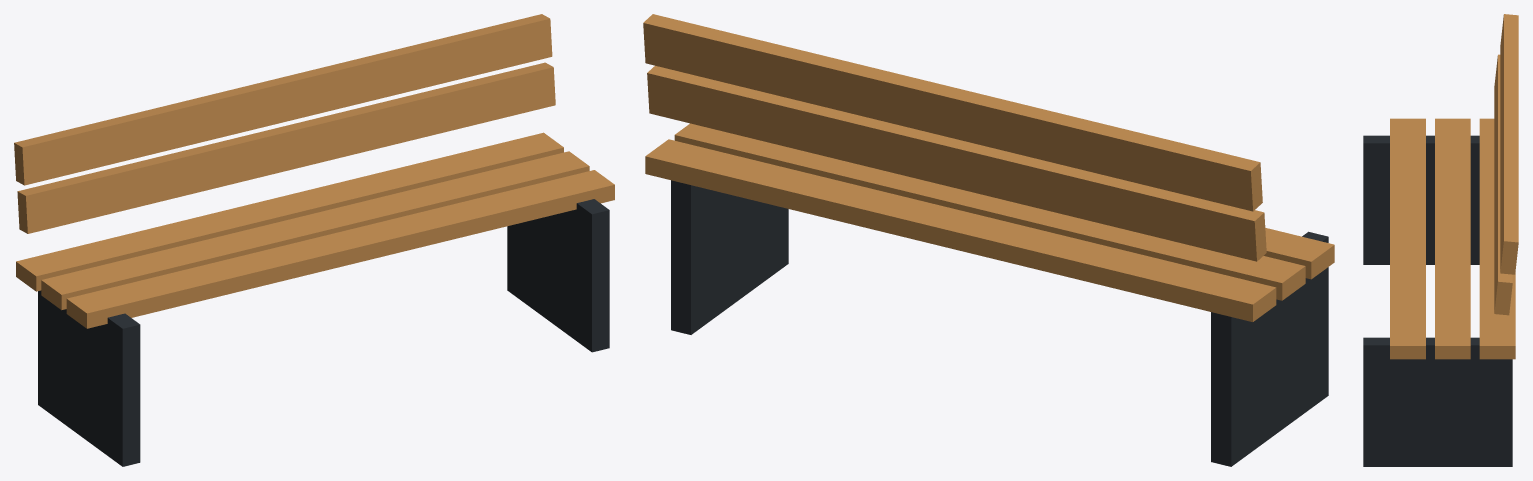
The model's file is patio_park_bench.glb.
The picture shows the model from 3 angles, left to right: view 1: azimuth 30°, elevation 25°; view 2: azimuth 150°, elevation 25°; view 3: azimuth 270°, elevation 25°; orthographic projection. The views are drawn at different scales.
Parts seen in each view (by area): view 1: park_bench; view 2: park_bench; view 3: park_bench.
Boxes of the visible parts, x1=… form: park_bench: x1=14, y1=14, x2=614, y2=466; park_bench: x1=643, y1=14, x2=1334, y2=466; park_bench: x1=1363, y1=14, x2=1518, y2=466.
Size of the model in its own units: 1.8 by 0.8672 by 0.5209.
